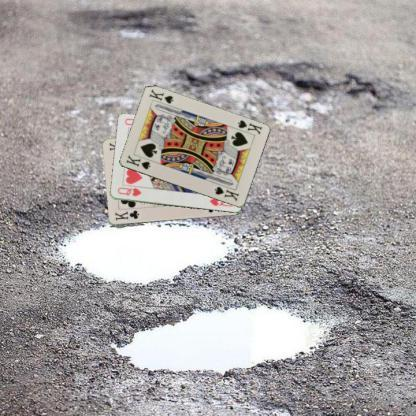Kc: (112, 208, 140, 222)
Ks: (122, 152, 152, 172), (234, 117, 263, 136)
Qh: (115, 185, 142, 197)
